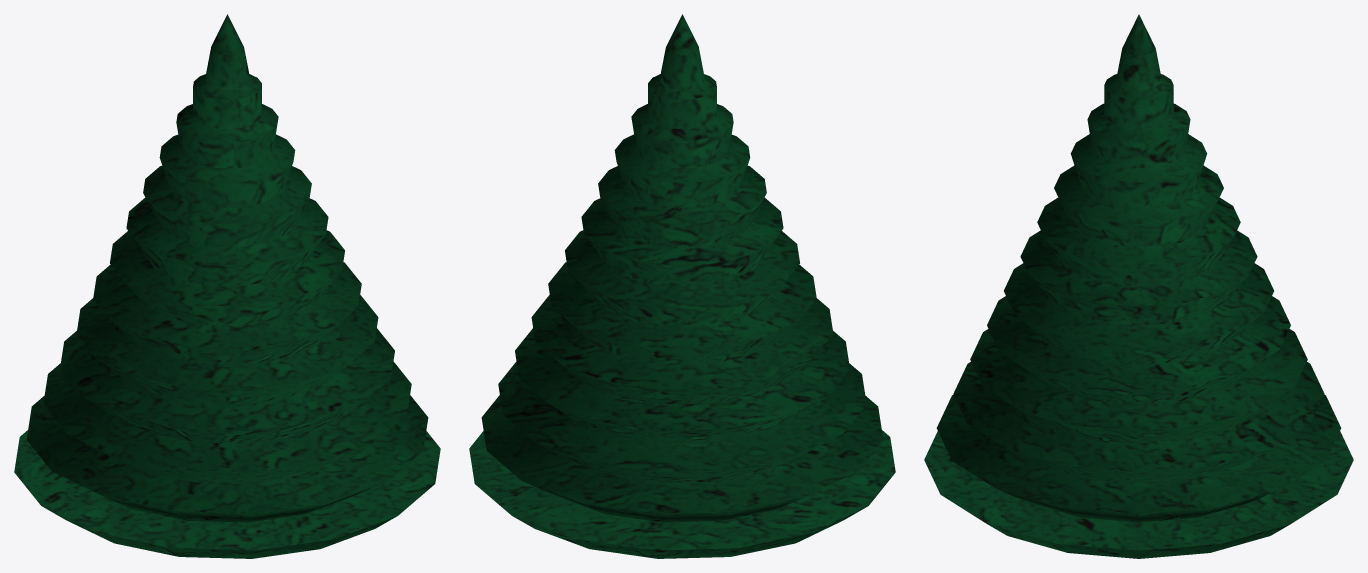
File: TreeTop4.FBX
3 views of the same model, side by side, from view 1: azimuth 30°, elevation 25°; view 2: azimuth 150°, elevation 25°; view 3: azimuth 270°, elevation 25° (orthographic).
Parts seen in each view (by area): view 1: Cone009; view 2: Cone009; view 3: Cone009.
Boxes of the visible parts, left/top/right/bottom form: Cone009: left=14, top=14, right=440, bottom=558; Cone009: left=469, top=14, right=895, bottom=558; Cone009: left=924, top=14, right=1353, bottom=558.
Size of the model in its own units: 140 by 168 by 140.
